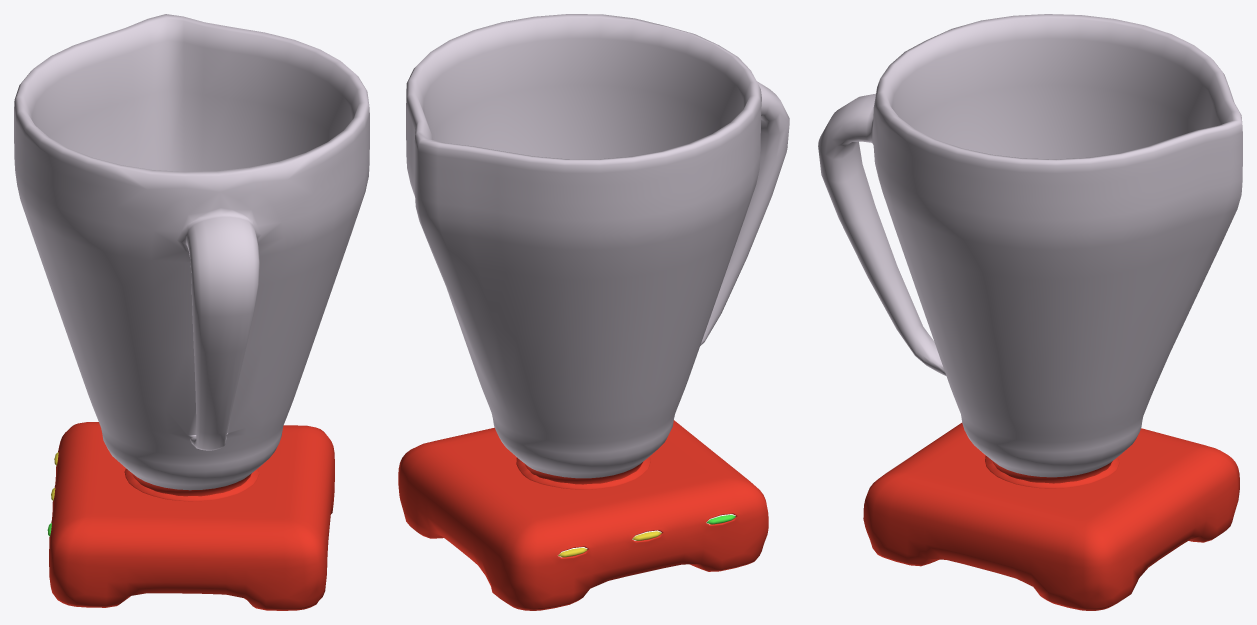
File: Smooth_blender1.fbx
The picture shows the model from 3 angles, left to right: view 1: azimuth 30°, elevation 25°; view 2: azimuth 150°, elevation 25°; view 3: azimuth 270°, elevation 25°; orthographic projection.
Parts seen in each view (by area): view 1: Smooth_blend_0; view 2: Smooth_blend_0; view 3: Smooth_blend_0.
Part boxes in pixels (x1,y1,x2,y2): Smooth_blend_0: (14, 14, 369, 610); Smooth_blend_0: (398, 14, 789, 610); Smooth_blend_0: (818, 14, 1242, 610).
Size of the model in its own units: 848 by 1137 by 968.
